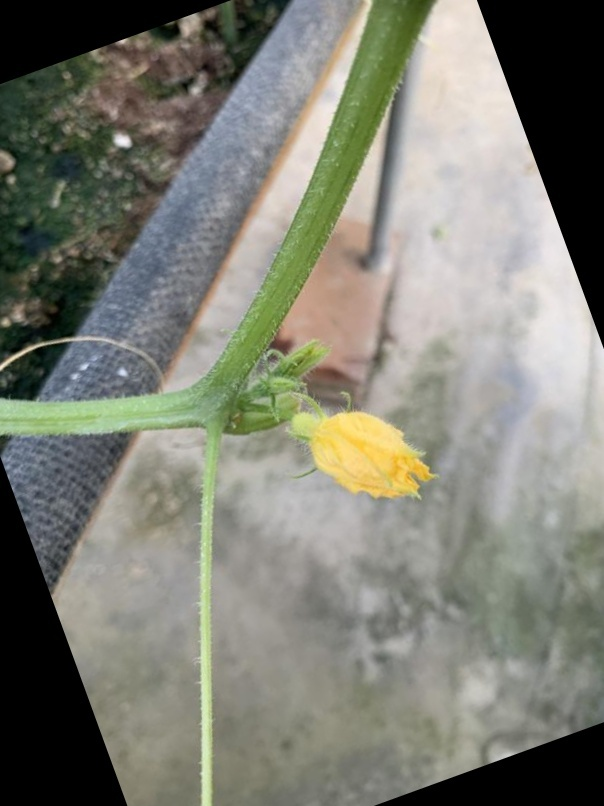bud: (283, 391, 448, 519)
